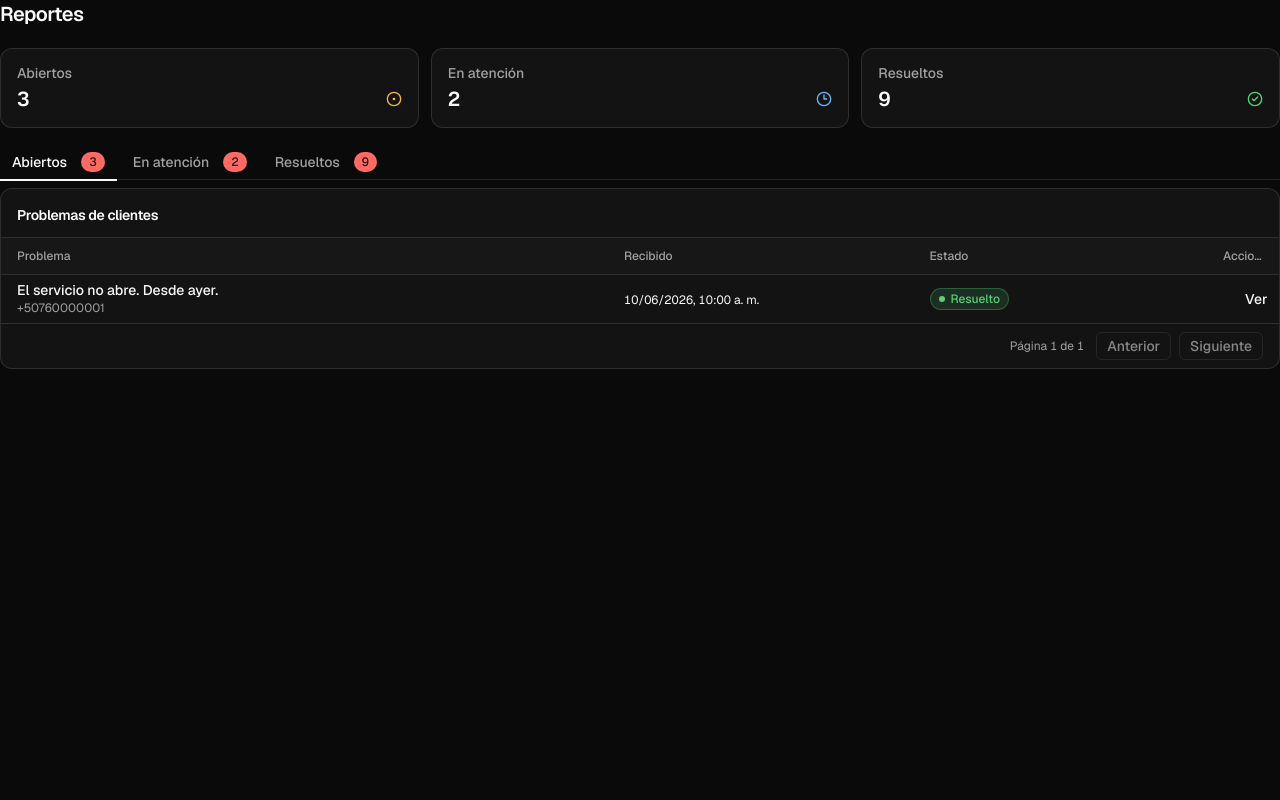
Test: shows a metric for every report state and a reusable resolution message
Expected: the 1st text "3" is shown, [17,85,29,113]
Expected: the 1st text "2" is shown, [448,85,460,113]
Click the tab "En atención 2". click: (190, 162)
box: [121,144,259,180]
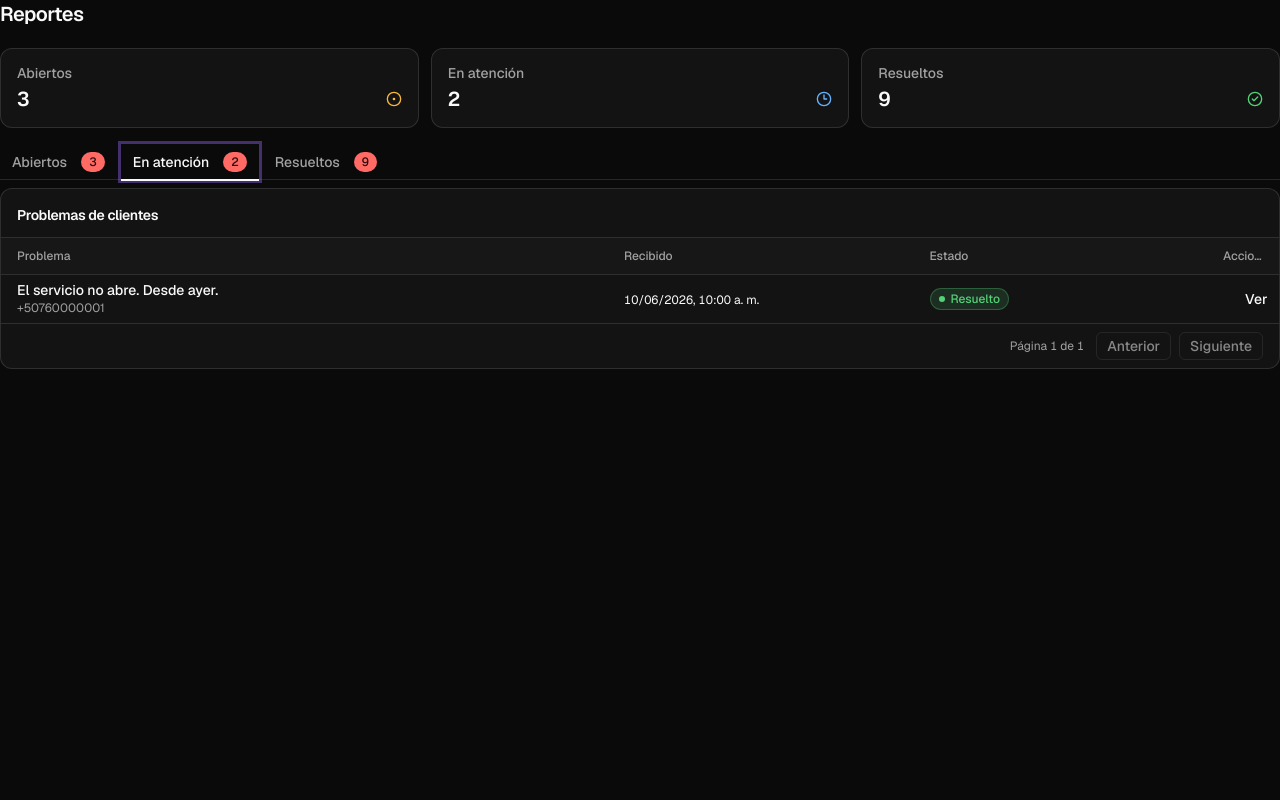
Expected: the element that starts with "Problemas de clientes" is shown, [0,188,1279,369]
Result: the tab "En atención 2" is selected at [121,144,259,180]
Click the button with aria-label "Ver reporte de +50760000001". click: (1256, 299)
box: [1235,285,1278,313]
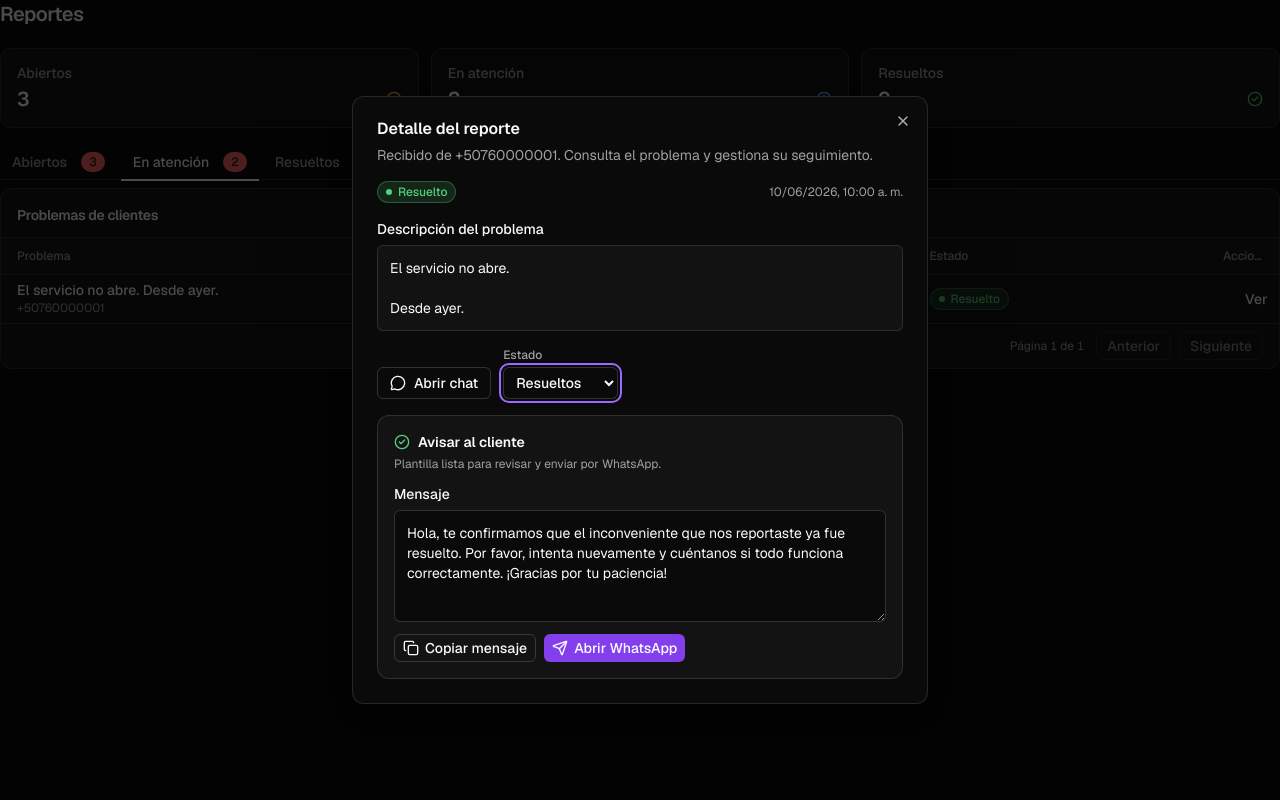
Result: the heading "Avisar al cliente" is shown at [418,432,525,452]
Result: the button "Abrir WhatsApp" is shown at [544,634,685,662]
